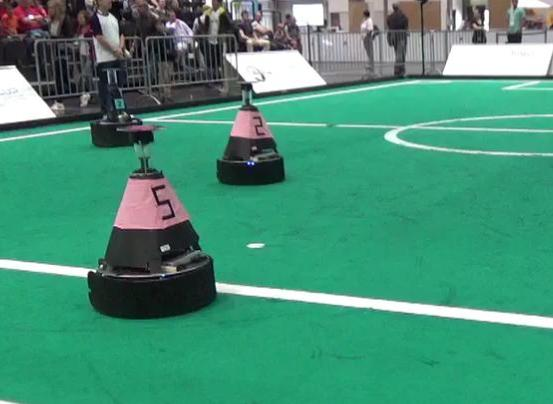robot: (84, 122, 222, 321), (215, 78, 286, 187), (87, 66, 149, 148)
